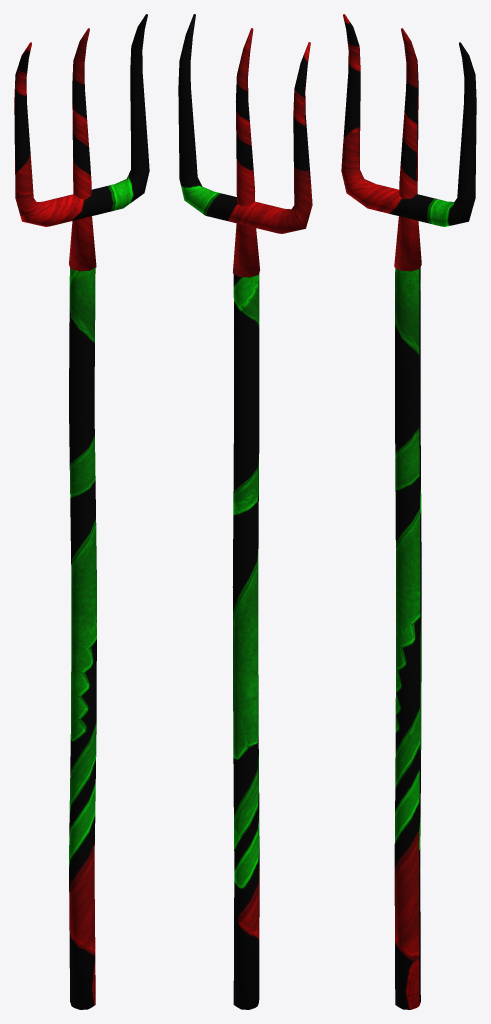
File: Pitchfork01.fbx
3 renders of one model, left to right at view 1: azimuth 30°, elevation 25°; view 2: azimuth 150°, elevation 25°; view 3: azimuth 330°, elevation 25°, orthographic.
Visible parts, largest first — view 1: Pitchfork01_LOD0; view 2: Pitchfork01_LOD0; view 3: Pitchfork01_LOD0.
Boxes of the visible parts, x1,y1,x2,y2 form: Pitchfork01_LOD0: (14,14,149,1009); Pitchfork01_LOD0: (178,14,312,1009); Pitchfork01_LOD0: (341,14,476,1009).
Size of what is drawn, in the model's own units: 0.1942 by 1.38 by 0.0373.
